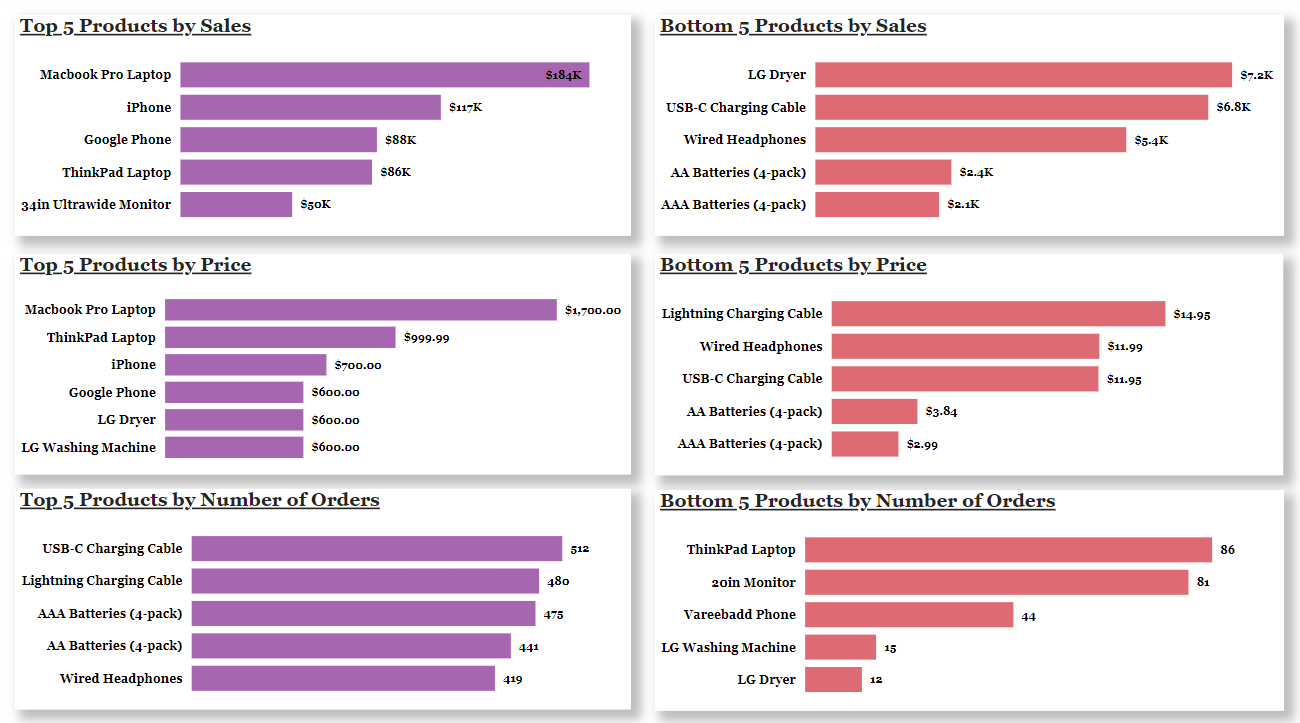

The dashboard page shown, as its layout file describes it:
{"tool":"powerbi","page":{"name":"Top/Bottom 5 Analysis","canvas":[1280,720],"ordinal":2},"visuals":[{"type":"barChart","title":"Top 5 Products by Sales","fields":{"Category":["Sales Combined.Product"],"Y":["Sum(Sales Combined.Sales)"]},"box":[14.7,19.6,602.6,216.4],"z":0},{"type":"barChart","title":"Bottom 5 Products by Sales","fields":{"Category":["Sales Combined.Product"],"Y":["Sum(Sales Combined.Sales)"]},"box":[640.5,19.6,614.9,216.4],"z":1000},{"type":"barChart","title":"Top 5 Products by Price","fields":{"Category":["Sales Combined.Product"],"Y":["Avg(Sales Combined.Price Each)"]},"box":[14.7,253,602.6,216.4],"z":2000},{"type":"barChart","title":"Bottom 5 Products by Price","fields":{"Category":["Sales Combined.Product"],"Y":["Avg(Sales Combined.Price Each)"]},"box":[640.1,252.7,614.6,217.2],"z":3000},{"type":"barChart","title":"Top 5 Products by Number of Orders","fields":{"Category":["Sales Combined.Product"],"Y":["CountNonNull(Sales Combined.Order ID)"]},"box":[14.7,482.9,602.6,216.4],"z":4000},{"type":"barChart","title":"Bottom 5 Products by Number of Orders","fields":{"Category":["Sales Combined.Product"],"Y":["CountNonNull(Sales Combined.Order ID)"]},"box":[640.5,484.1,614.9,216.4],"z":5000}]}

Visuals, with their boxes in screenshot pixels (x1, y1, x2, y2), scaled from the page's 1280x720 canvas onto the 1300x723 screenshot:
"Top 5 Products by Sales" barChart: x1=15, y1=20, x2=627, y2=237
"Bottom 5 Products by Sales" barChart: x1=651, y1=20, x2=1275, y2=237
"Top 5 Products by Price" barChart: x1=15, y1=254, x2=627, y2=471
"Bottom 5 Products by Price" barChart: x1=650, y1=254, x2=1274, y2=472
"Top 5 Products by Number of Orders" barChart: x1=15, y1=485, x2=627, y2=702
"Bottom 5 Products by Number of Orders" barChart: x1=651, y1=486, x2=1275, y2=703
